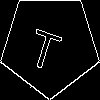T: (25, 19, 66, 73)
